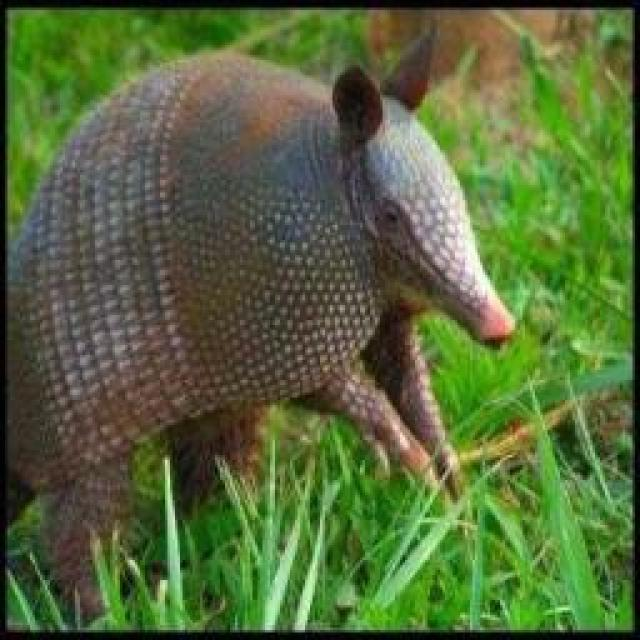not_pig: (5, 23, 515, 625)
